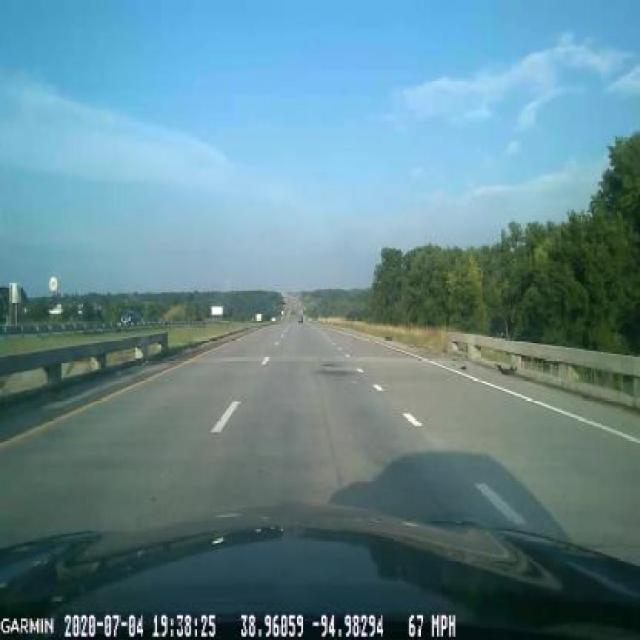Pothole: (311, 365, 360, 383)
